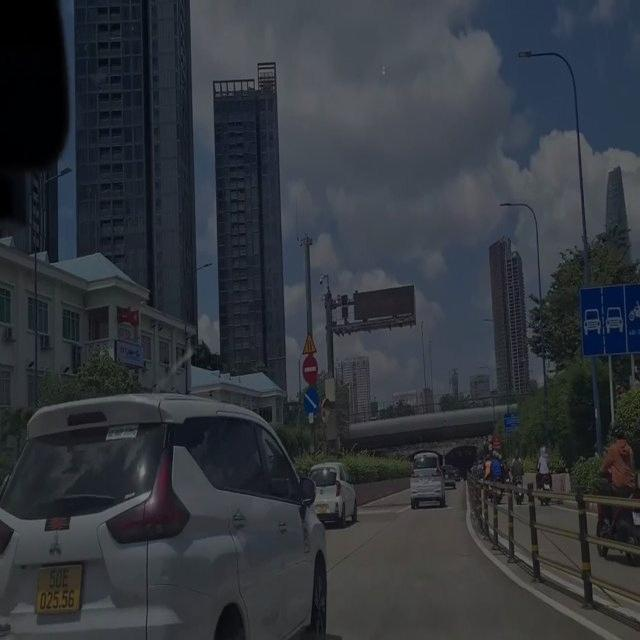Cấm đi ngược chiều: (302, 355, 319, 385)
Hướng phải đi vòng sang phải: (302, 387, 320, 416)
Khác: (501, 410, 523, 432)
Làn đường cho từng xe: (576, 278, 636, 358)
Đường hẹp: (300, 327, 318, 355)
